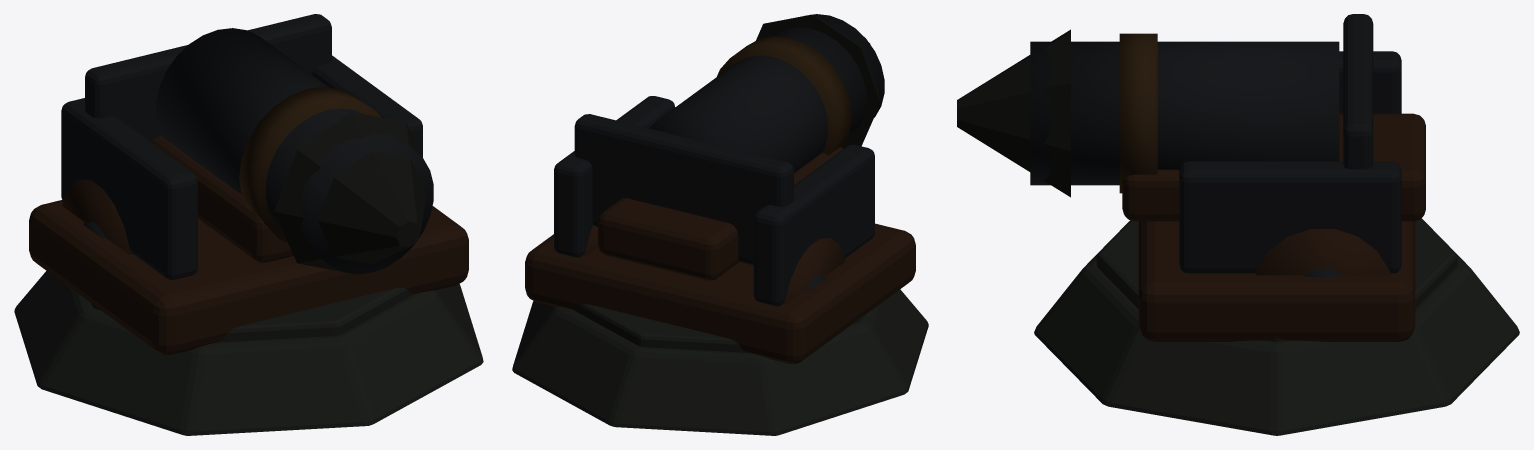
File: TowerDestroy1_pose.obj
3 renders of one model, left to right at view 1: azimuth 30°, elevation 25°; view 2: azimuth 150°, elevation 25°; view 3: azimuth 270°, elevation 25°, orthographic. The views are drawn at different scales.
Visible parts, largest first — view 1: rough_stone_foundation_lower_course, reinforced_oak_sled, black_ram_barrel, stone_breaker_head, iron_ram_cheek, iron_ram_mantle, bronze_ram_band, oak_ram_bed, rough_stone_foundation_upper_course, iron_ram_cheek.001, heavy_wood_wheel; view 2: rough_stone_foundation_lower_course, reinforced_oak_sled, iron_ram_mantle, black_ram_barrel, iron_ram_cheek, oak_ram_bed, iron_ram_cheek.001, bronze_ram_band, rough_stone_foundation_upper_course, stone_breaker_head, heavy_wood_wheel; view 3: rough_stone_foundation_lower_course, black_ram_barrel, reinforced_oak_sled, iron_ram_cheek.001, stone_breaker_head, oak_ram_bed, bronze_ram_band, iron_ram_mantle, rough_stone_foundation_upper_course, heavy_wood_wheel.001, iron_ram_cheek.
Part boxes in pixels (bbox=[...]): rough_stone_foundation_lower_course: bbox=[14, 271, 483, 435]; reinforced_oak_sled: bbox=[29, 200, 468, 354]; black_ram_barrel: bbox=[156, 28, 433, 274]; stone_breaker_head: bbox=[274, 112, 426, 273]; iron_ram_cheek: bbox=[61, 98, 197, 279]; iron_ram_mantle: bbox=[85, 14, 331, 141]; bronze_ram_band: bbox=[239, 86, 381, 243]; oak_ram_bed: bbox=[151, 136, 293, 262]; rough_stone_foundation_upper_course: bbox=[91, 287, 414, 342]; iron_ram_cheek.001: bbox=[312, 55, 422, 157]; heavy_wood_wheel: bbox=[62, 179, 132, 254]; rough_stone_foundation_lower_course: bbox=[512, 289, 928, 435]; reinforced_oak_sled: bbox=[525, 223, 915, 363]; iron_ram_mantle: bbox=[574, 114, 793, 264]; black_ram_barrel: bbox=[649, 14, 884, 172]; iron_ram_cheek: bbox=[753, 144, 874, 306]; oak_ram_bed: bbox=[598, 147, 842, 280]; iron_ram_cheek.001: bbox=[554, 96, 675, 257]; bronze_ram_band: bbox=[717, 36, 851, 155]; rough_stone_foundation_upper_course: bbox=[573, 304, 860, 352]; stone_breaker_head: bbox=[756, 14, 880, 148]; heavy_wood_wheel: bbox=[782, 238, 845, 305]; rough_stone_foundation_lower_course: bbox=[1034, 218, 1519, 435]; black_ram_barrel: bbox=[1030, 41, 1339, 185]; reinforced_oak_sled: bbox=[1138, 221, 1415, 341]; iron_ram_cheek.001: bbox=[1179, 161, 1401, 273]; stone_breaker_head: bbox=[957, 29, 1070, 197]; oak_ram_bed: bbox=[1122, 113, 1425, 221]; bronze_ram_band: bbox=[1119, 33, 1157, 193]; iron_ram_mantle: bbox=[1343, 14, 1373, 169]; rough_stone_foundation_upper_course: bbox=[1096, 218, 1457, 341]; heavy_wood_wheel.001: bbox=[1256, 229, 1390, 275]; iron_ram_cheek: bbox=[1339, 51, 1401, 113].
Bounding box in the file's own units: 1.79 × 1.23 × 2.08.
